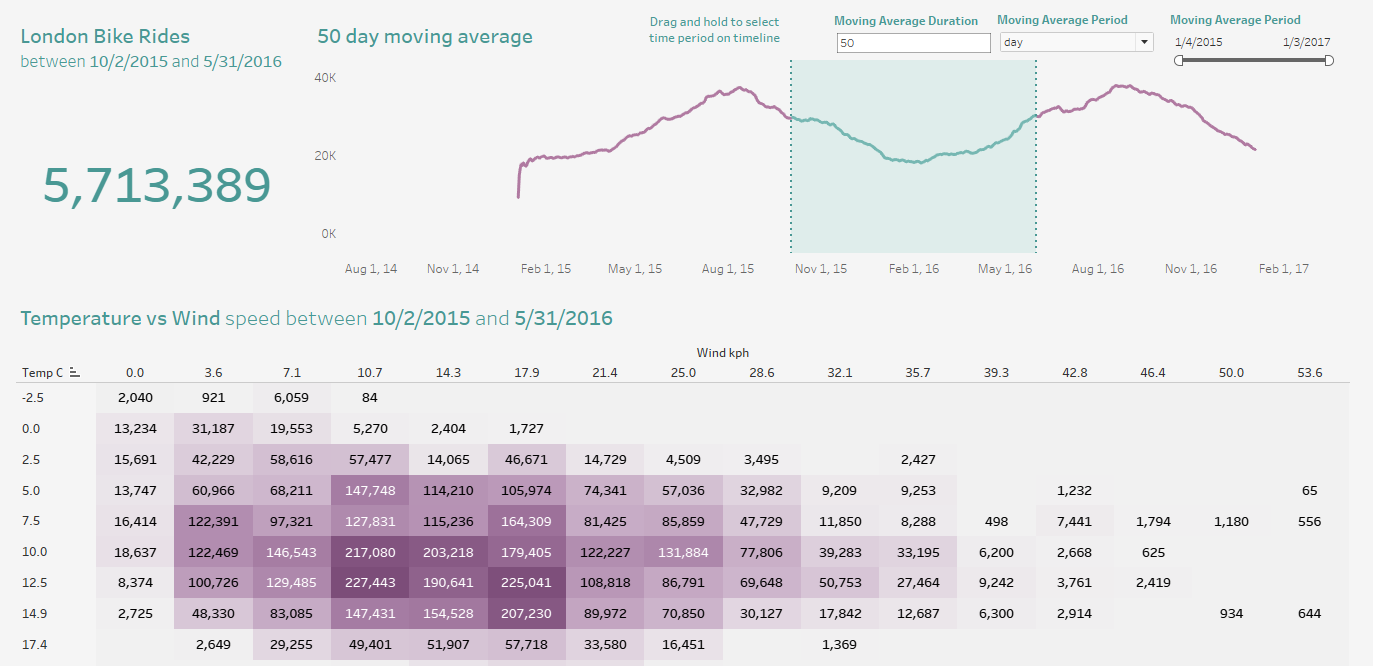

The dashboard page shown, as its layout file describes it:
{"tool":"tableau","page":{"name":"Dashboard","canvas":[1366,768],"ordinal":0},"visuals":[{"type":"parameter","param":"[Parameters].[Parameter 2]","box":[1023,6,160,44]},{"type":"parameter","param":"[Parameters].[Parameter 1]","box":[1188,6,160,44]},{"type":"worksheet","title":"Total Rides","mark":"Automatic","box":[8,8,675,376]},{"type":"worksheet","title":"Moving Average","mark":"Automatic","rows":["Calculation1"],"cols":["Calculation_1336161756906688512"],"box":[683,8,675,376]},{"type":"worksheet","title":"Temp vs Wind Heatmap","mark":"Square","rows":["temp real C (bin)"],"cols":["Wind Speed Kph (bin)"],"box":[8,384,1350,376]}]}

Visuals, with their boxes on the page's 1366x768 design canvas (x1, y1, x2, y2). These are canvas units, not pixel positions in the 1373x666 screenshot, which may show the page scaled, cropped or inside an application window:
parameter: {"x1": 1023, "y1": 6, "x2": 1183, "y2": 50}
parameter: {"x1": 1188, "y1": 6, "x2": 1348, "y2": 50}
"Total Rides" worksheet: {"x1": 8, "y1": 8, "x2": 683, "y2": 384}
"Moving Average" worksheet: {"x1": 683, "y1": 8, "x2": 1358, "y2": 384}
"Temp vs Wind Heatmap" worksheet (Square marks): {"x1": 8, "y1": 384, "x2": 1358, "y2": 760}
